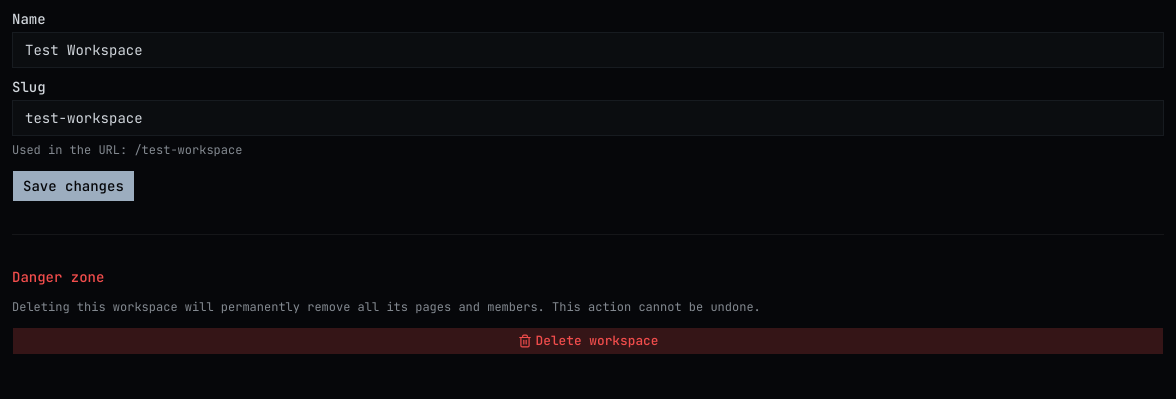
Test: WorkspaceSettingsForm › shows success message after saving
Step 1. Replace the text in the field labelled "Name" with "New Name" → (588, 50), box [12,32,1164,68]
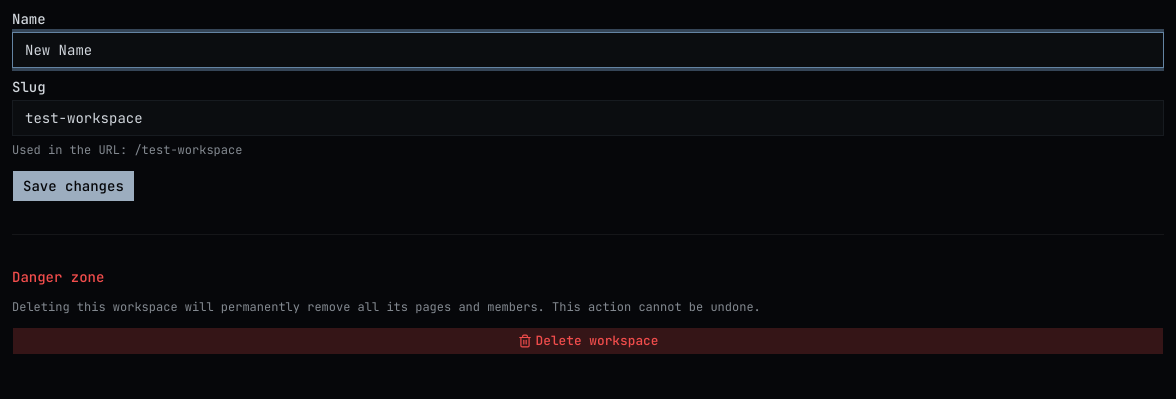
Step 2. Click the button "Save changes" → (73, 186), box [12,170,135,202]
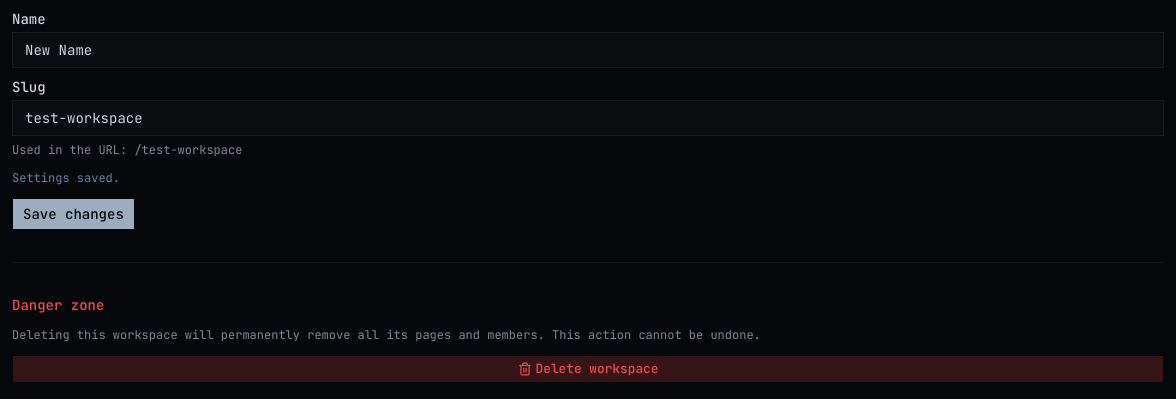
Check: the text "Settings saved." is shown, box [12,170,120,186]
